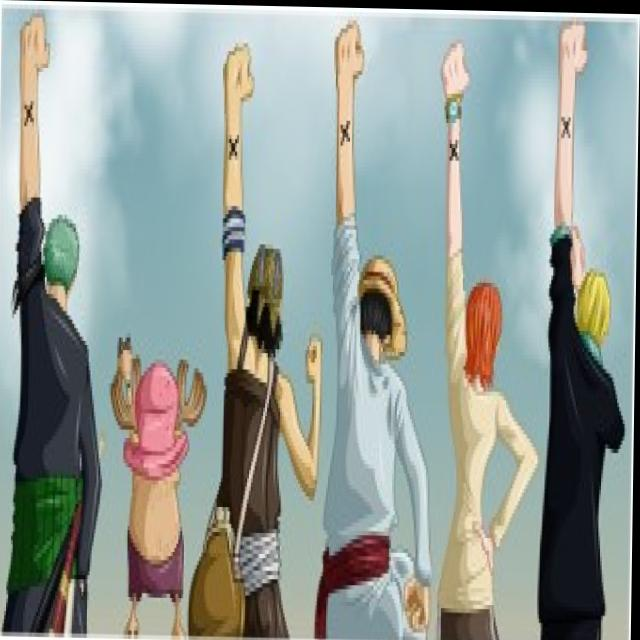Chyopa: (100, 329, 204, 640)
Luffy: (348, 239, 419, 394)
Nami: (463, 258, 505, 410)
Sangdi: (569, 261, 627, 368)
Usopp: (226, 225, 303, 406)
Zoro: (35, 180, 90, 326)
